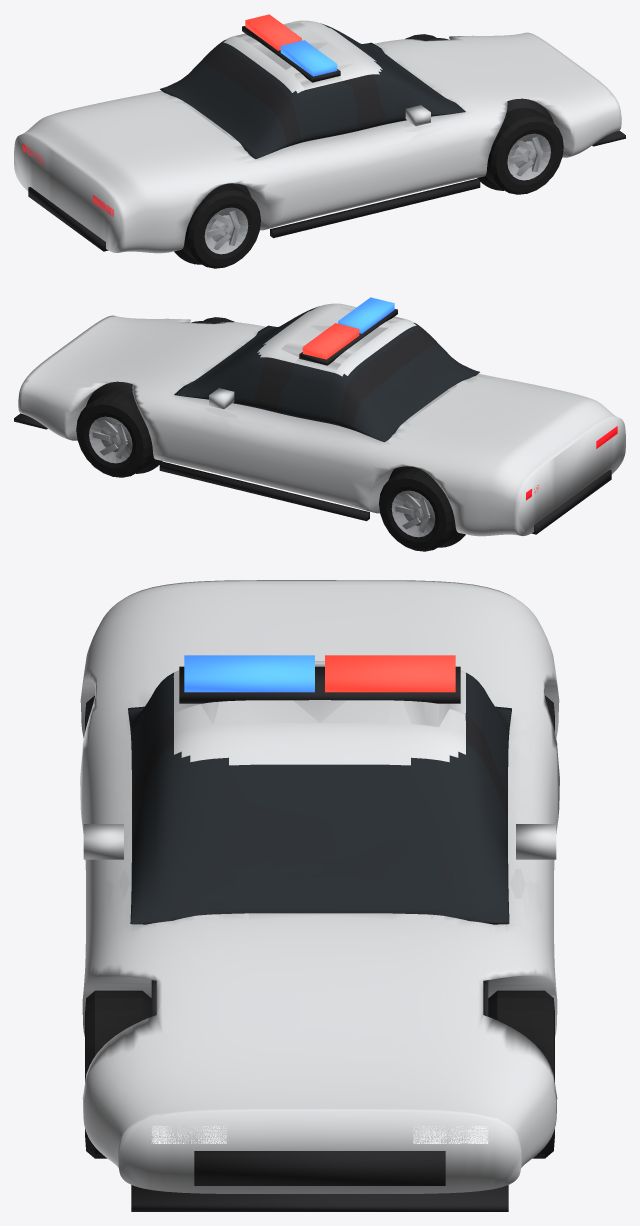
Rendered from pace_car_lod1.glb.
The picture shows the model from 3 angles, top to bottom: view 1: azimuth 30°, elevation 25°; view 2: azimuth 150°, elevation 25°; view 3: azimuth 270°, elevation 25°; orthographic projection. The views are drawn at different scales.
Parts seen in each view (by area): view 1: Body, Tire_FR, Tire_RR; view 2: Body, Tire_FL, Tire_RL; view 3: Body, Tire_FL, Tire_FR.
Boxes of the visible parts, box(x1,y1,x2,y2) form: Body: box(14, 14, 625, 264); Tire_FR: box(485, 107, 563, 194); Tire_RR: box(182, 183, 260, 268); Body: box(14, 297, 625, 547); Tire_FL: box(76, 390, 154, 477); Tire_RL: box(379, 466, 457, 551); Body: box(80, 580, 559, 1211); Tire_FL: box(488, 990, 554, 1158); Tire_FR: box(85, 990, 151, 1158).
Size of the model in its own units: 4.71 by 1.41 by 1.91.
